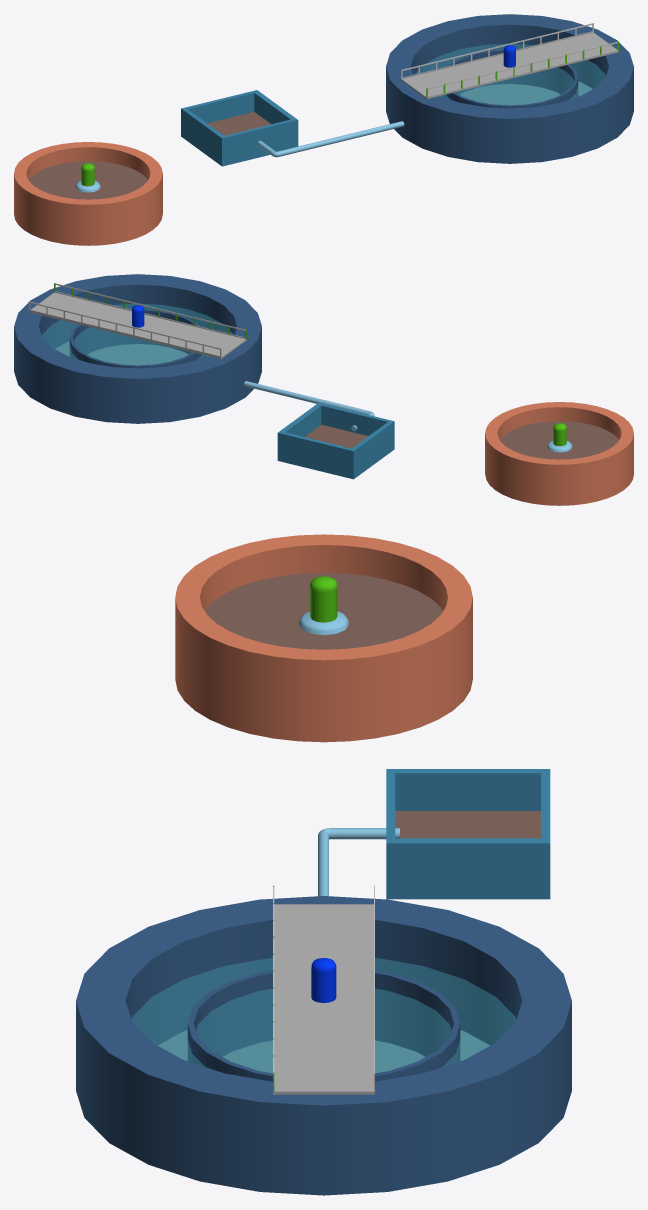
Rendered from sludge_return.obj.
3 views of the same model, one above another, from view 1: azimuth 30°, elevation 25°; view 2: azimuth 150°, elevation 25°; view 3: azimuth 270°, elevation 25° (orthographic). The views are drawn at different scales.
Visible parts, largest first — view 1: __, __.1, ____, ___.3, __3, ___, ___.33, ___.2; view 2: __, ____, __.1, ___.3, __3, ___, ___.33, ___.2; view 3: __, ___.3, ____, __.1, __3, ___.
Part boxes in pixels (bbox=[...]): __: bbox=[14, 14, 633, 245]; __.1: bbox=[29, 50, 591, 199]; ____: bbox=[181, 90, 298, 166]; ___.3: bbox=[401, 31, 618, 98]; __3: bbox=[441, 49, 578, 108]; ___: bbox=[207, 49, 617, 135]; ___.33: bbox=[428, 42, 617, 89]; ___.2: bbox=[402, 23, 592, 70]; __: bbox=[14, 274, 633, 505]; ____: bbox=[277, 403, 394, 479]; __.1: bbox=[56, 310, 618, 459]; ___.3: bbox=[29, 292, 246, 358]; __3: bbox=[69, 309, 206, 368]; ___: bbox=[54, 291, 368, 448]; ___.33: bbox=[54, 283, 245, 331]; ___.2: bbox=[29, 302, 220, 349]; __: bbox=[76, 534, 571, 1195]; ___.3: bbox=[273, 904, 374, 1094]; ____: bbox=[386, 769, 550, 899]; __.1: bbox=[158, 572, 489, 1072]; __3: bbox=[187, 970, 460, 1081]; ___: bbox=[395, 811, 540, 838].
Size of the model in its own units: 11049 by 1167 by 4000.
